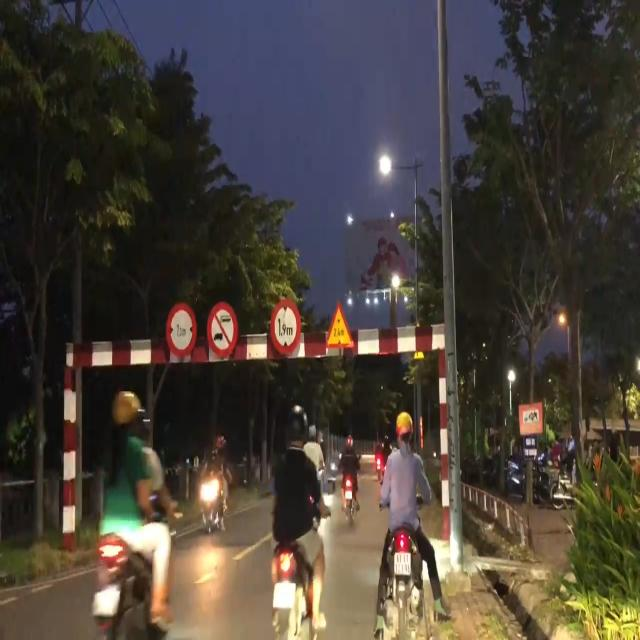Bien bao cam xe oto khach va xe oto tai: (206, 298, 238, 359)
Bien bao chieu cao tinh khong thuc te: (326, 299, 356, 358)
Bien bao han che chieu cao: (266, 290, 303, 361)
